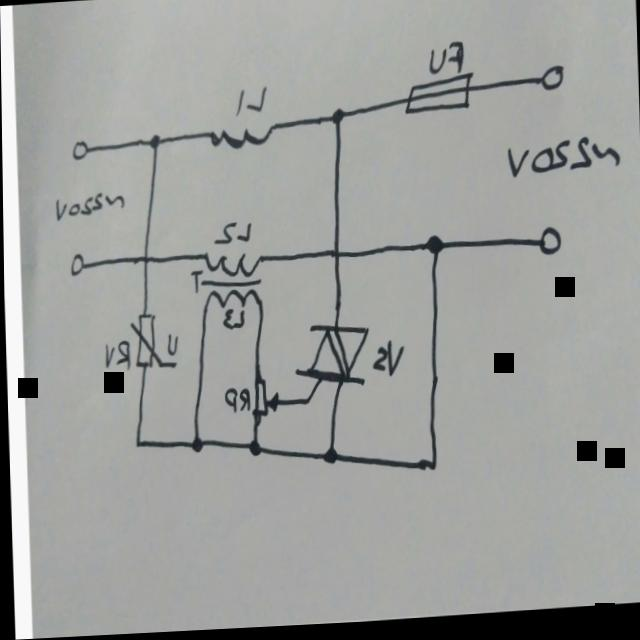crossover: (136, 250, 153, 272), (327, 247, 343, 268)
inductor: (205, 119, 278, 155)
junction: (422, 234, 443, 264), (330, 107, 346, 130), (322, 445, 337, 468), (247, 438, 262, 461), (187, 436, 202, 459), (425, 457, 440, 479), (148, 134, 162, 154), (132, 435, 143, 450)
resistor: (248, 373, 280, 422)
terminal: (537, 65, 568, 101), (531, 229, 562, 265), (71, 138, 93, 164), (68, 250, 90, 276)
text: (505, 136, 622, 185), (53, 189, 126, 224), (427, 41, 466, 84), (370, 342, 405, 382), (234, 85, 269, 118), (212, 222, 250, 248), (103, 340, 131, 373), (222, 389, 249, 415), (220, 309, 244, 332), (189, 270, 204, 295)
transformer: (199, 247, 266, 313)
